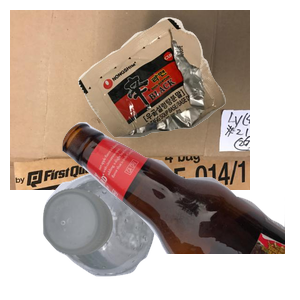cardboard: (10, 10, 250, 190)
glass: (60, 120, 300, 300)
plastic: (40, 170, 187, 300)
trash: (76, 15, 300, 145)
